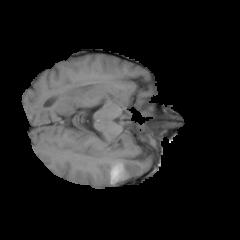glioma: (102, 152, 149, 186)
